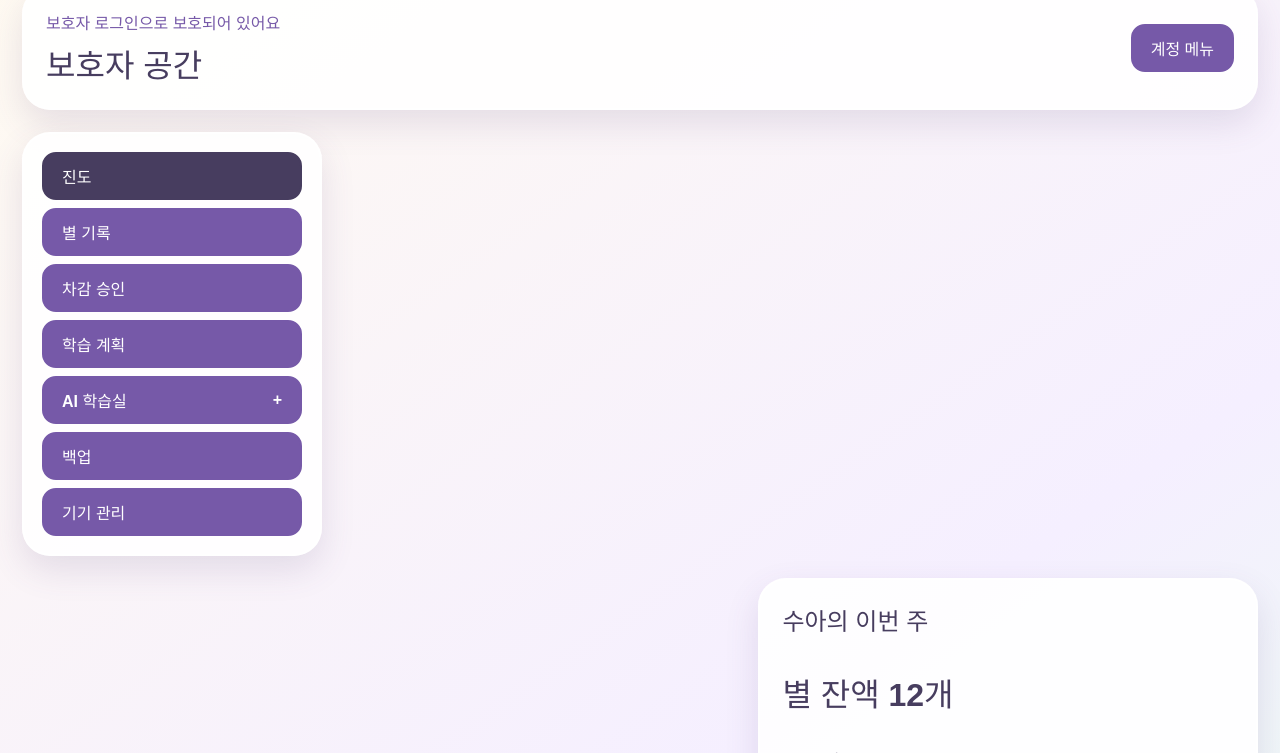
Scenario: GuardianDashboard › loads the current AI studio without requiring the legacy provider-array method
Click the button "AI 학습실 +" at x=94, y=402, box [42, 376, 302, 424]
(page scrolled)
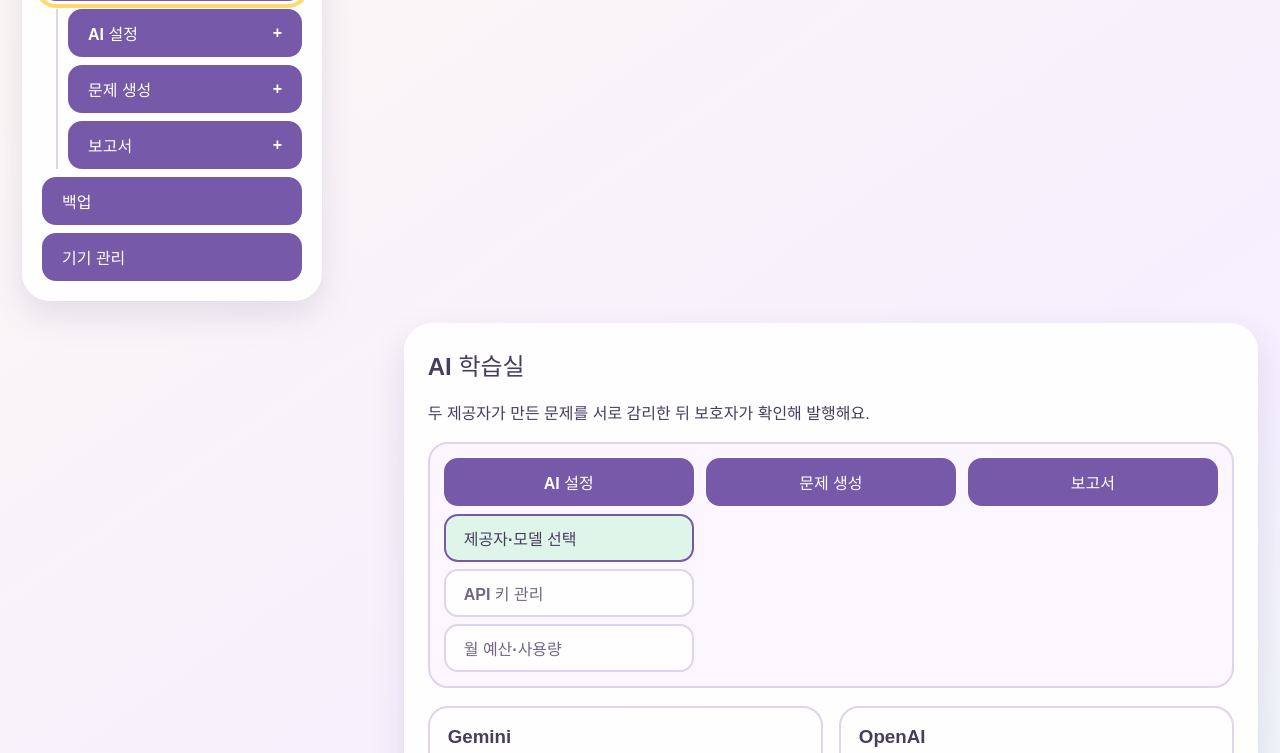
Expected: the heading "AI 학습실" is shown, [428, 353, 525, 380]
